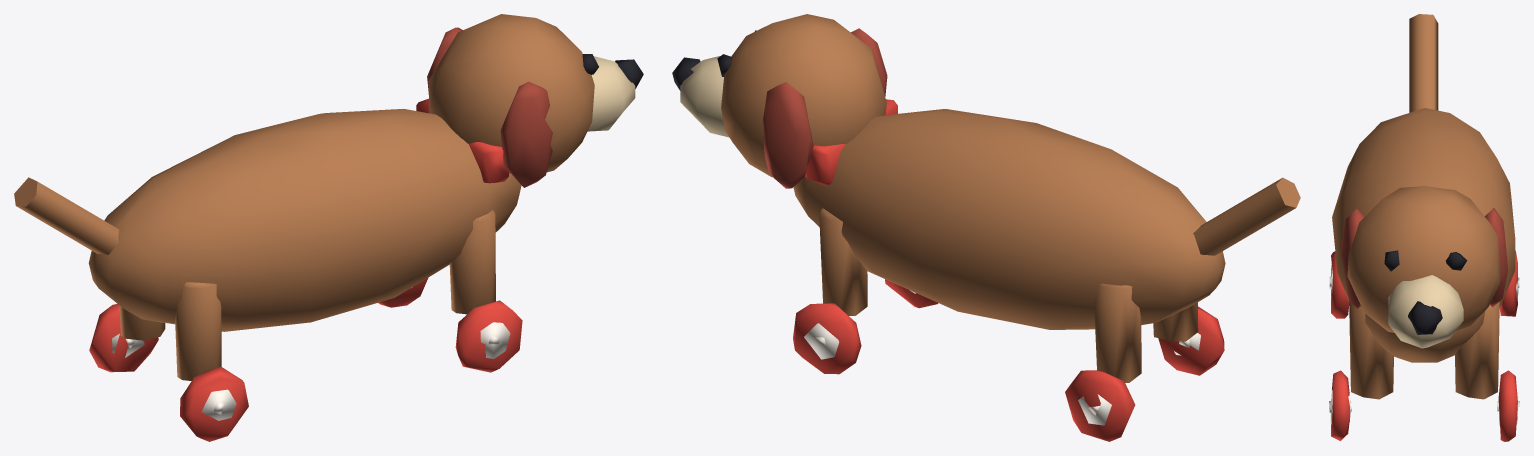
The model's file is dog.glb.
3 views of the same model, side by side, from view 1: azimuth 30°, elevation 25°; view 2: azimuth 150°, elevation 25°; view 3: azimuth 270°, elevation 25° (orthographic). The views are drawn at different scales.
Parts seen in each view (by area): view 1: dog; view 2: dog; view 3: dog.
Part boxes in pixels (x1=…): dog: x1=14, y1=14, x2=643, y2=441; dog: x1=672, y1=14, x2=1300, y2=441; dog: x1=1329, y1=14, x2=1519, y2=441.
Bounding box in the file's own units: 1.28 × 0.5869 × 0.3644.
1 material, 1 textured.
